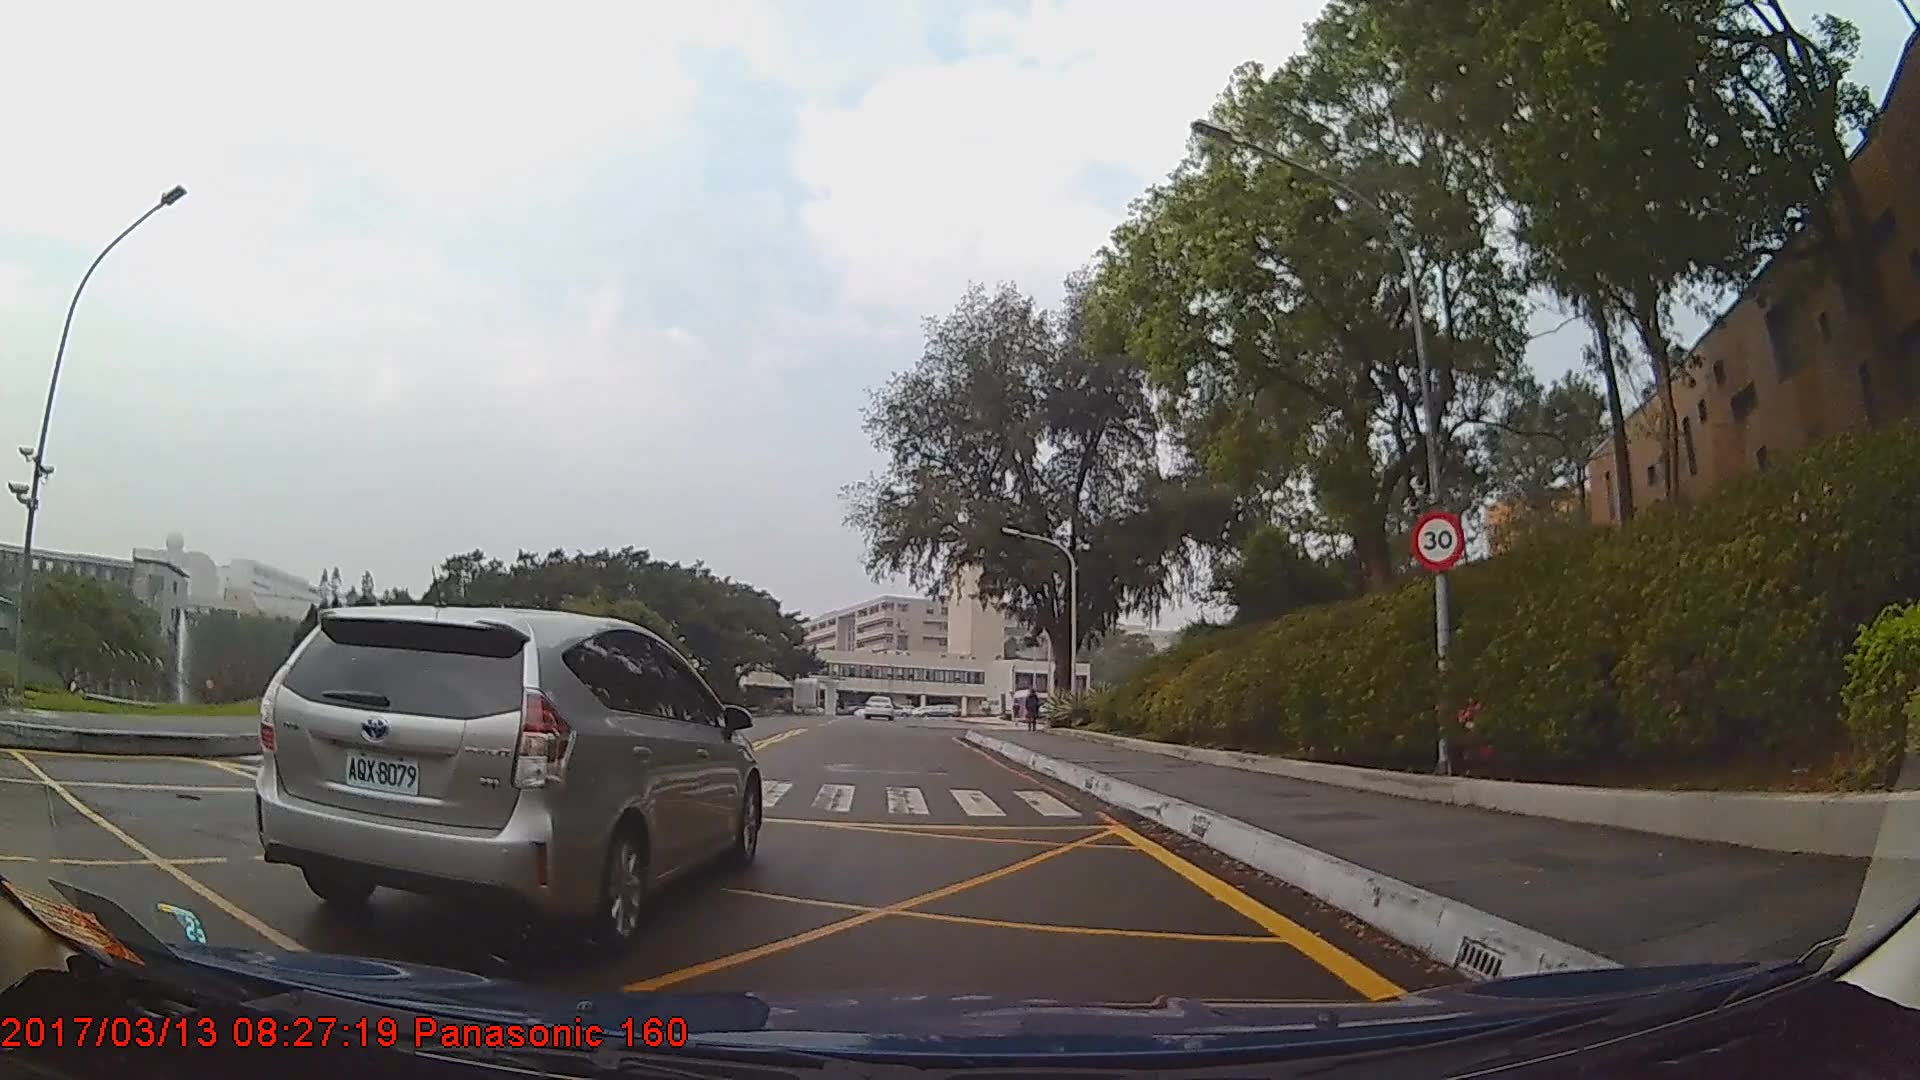pedestrian: (1023, 690, 1044, 735)
vehicle: (252, 599, 762, 950), (862, 693, 891, 720)
